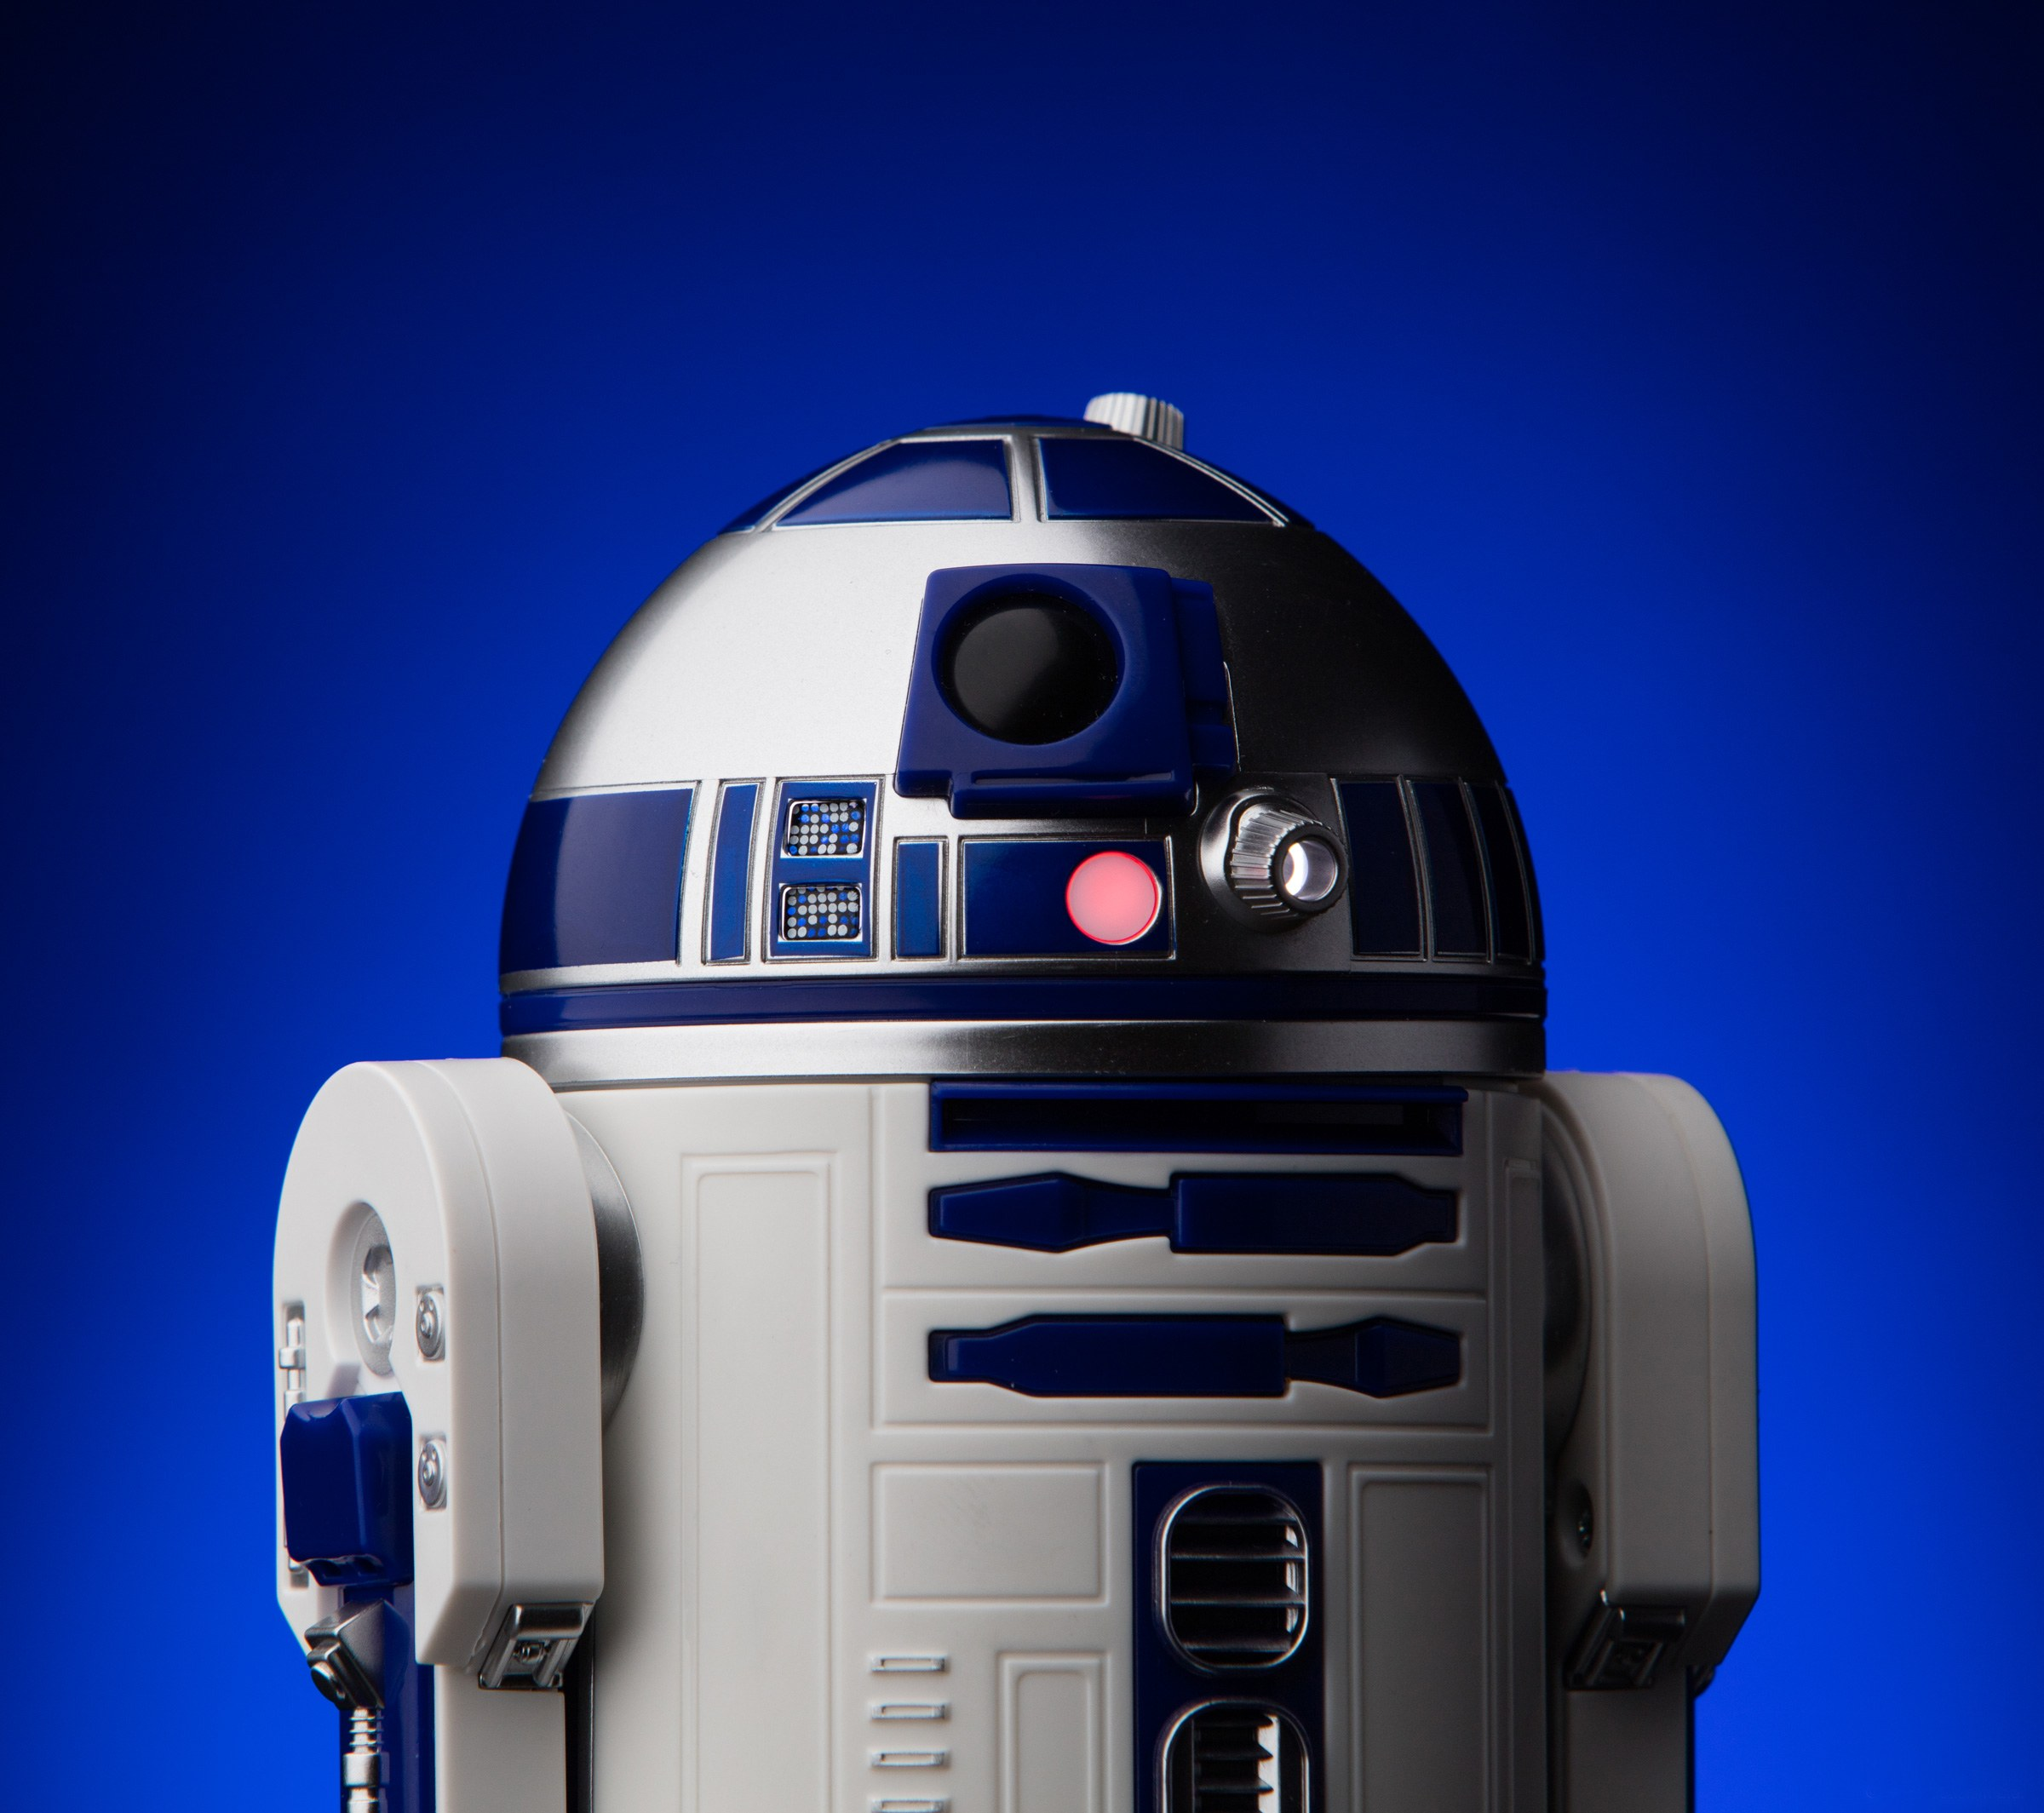r2d2: (266, 392, 1759, 1813)
